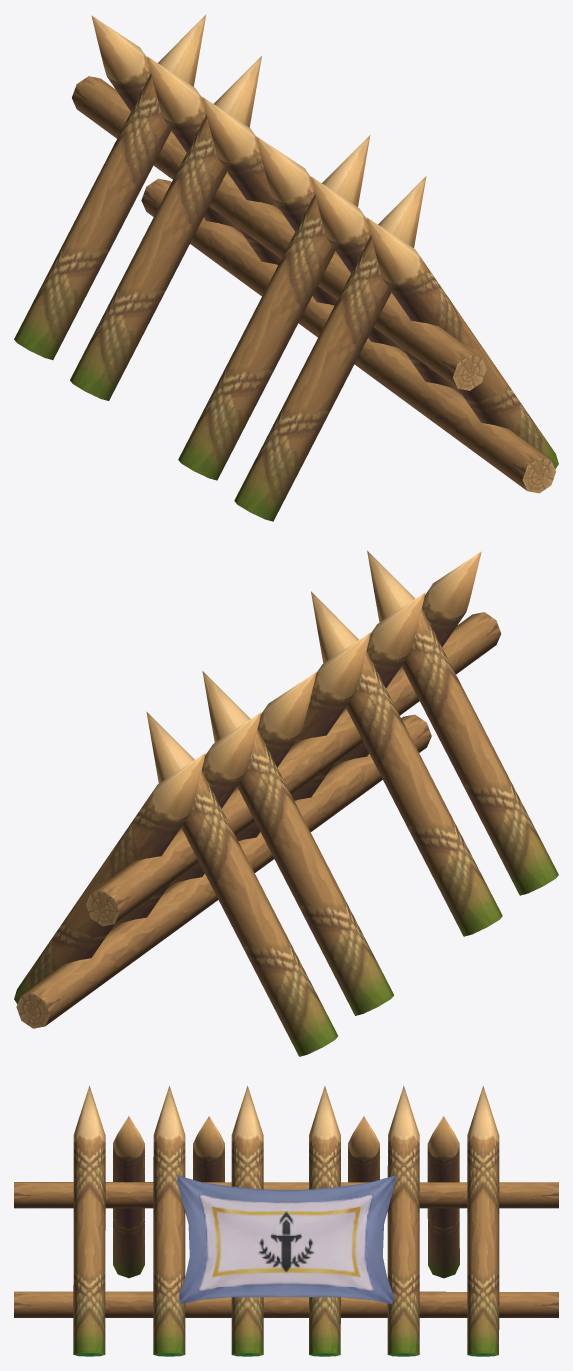
Rendered from Scene_wujian_muzhalan_001.FBX.
3 views of the same model, one above another, from view 1: azimuth 30°, elevation 25°; view 2: azimuth 150°, elevation 25°; view 3: azimuth 270°, elevation 25° (orthographic). The views are drawn at different scales.
Visible parts, largest first — view 1: Scene_wujian_muzhalan_001; view 2: Scene_wujian_muzhalan_001; view 3: Scene_wujian_muzhalan_001.
Part boxes in pixels (<box>): Scene_wujian_muzhalan_001: <box>14,14,558,521</box>; Scene_wujian_muzhalan_001: <box>14,550,558,1056</box>; Scene_wujian_muzhalan_001: <box>14,1085,558,1356</box>.
Bounding box in the file's own units: 111 × 111 × 252.
